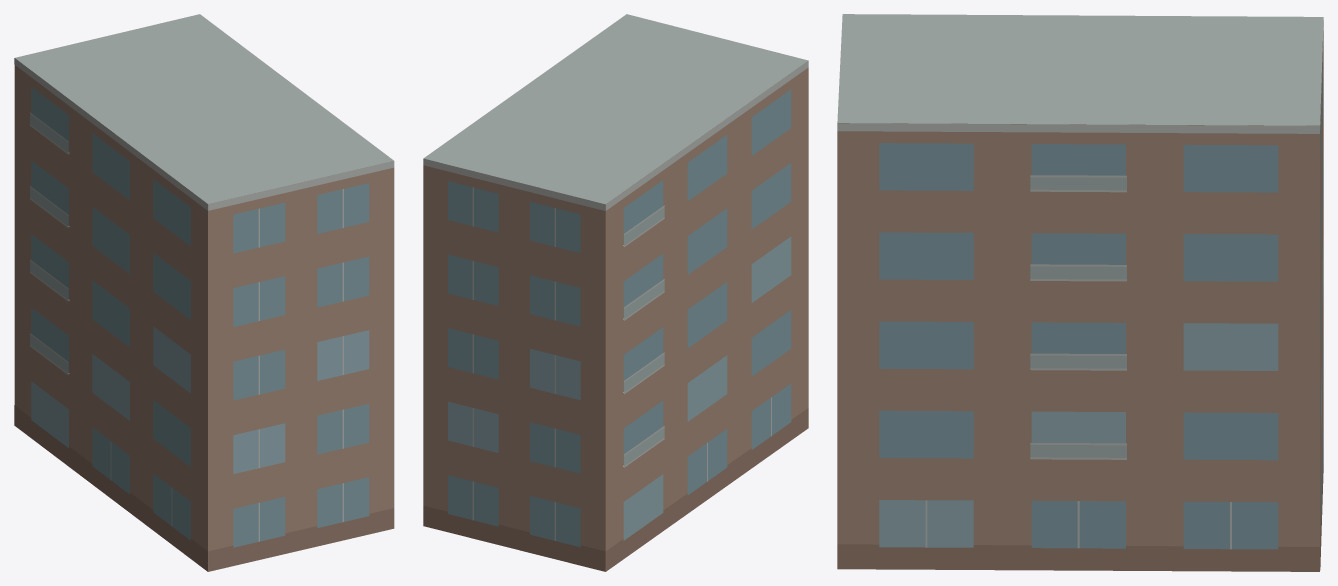
Rendered from survey-upis-32840616.glb.
The picture shows the model from 3 angles, left to right: view 1: azimuth 30°, elevation 25°; view 2: azimuth 150°, elevation 25°; view 3: azimuth 270°, elevation 25°; orthographic projection. The views are drawn at different scales.
Visible parts, largest first — view 1: survey-upis-32840616.tmp; view 2: survey-upis-32840616.tmp; view 3: survey-upis-32840616.tmp.
Boxes of the visible parts, x1,y1,x2,y2 form: survey-upis-32840616.tmp: [14, 14, 394, 571]; survey-upis-32840616.tmp: [423, 14, 808, 571]; survey-upis-32840616.tmp: [837, 14, 1323, 571].
Size of the model in its own units: 7.16 by 13.3 by 13.15.
